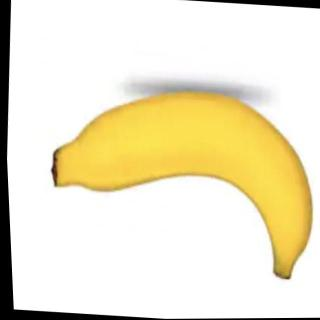banana: (35, 76, 320, 286)
